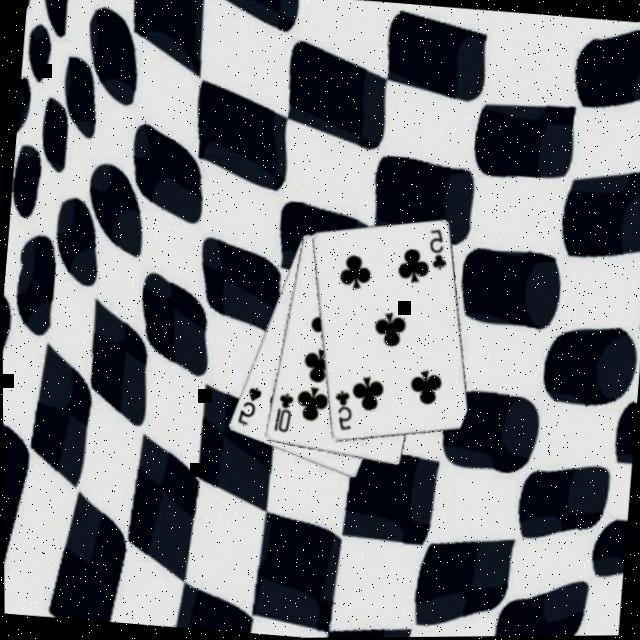10C: (268, 391, 294, 437)
5C: (326, 388, 354, 436), (422, 228, 450, 276)
5S: (231, 385, 263, 431)
